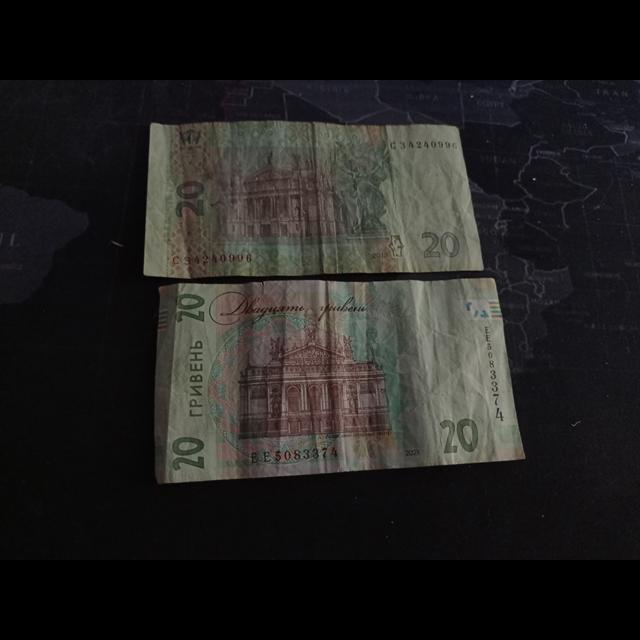20uah: (155, 277, 527, 484), (143, 121, 484, 279)
